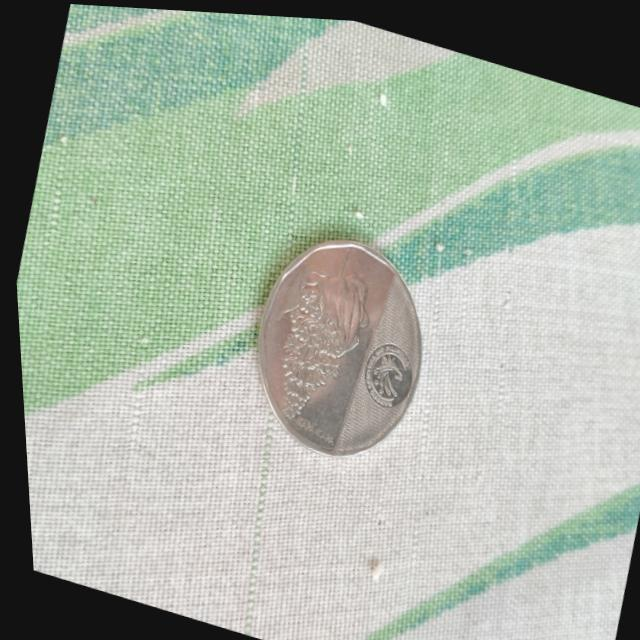10_New_Back: (236, 215, 389, 446)
